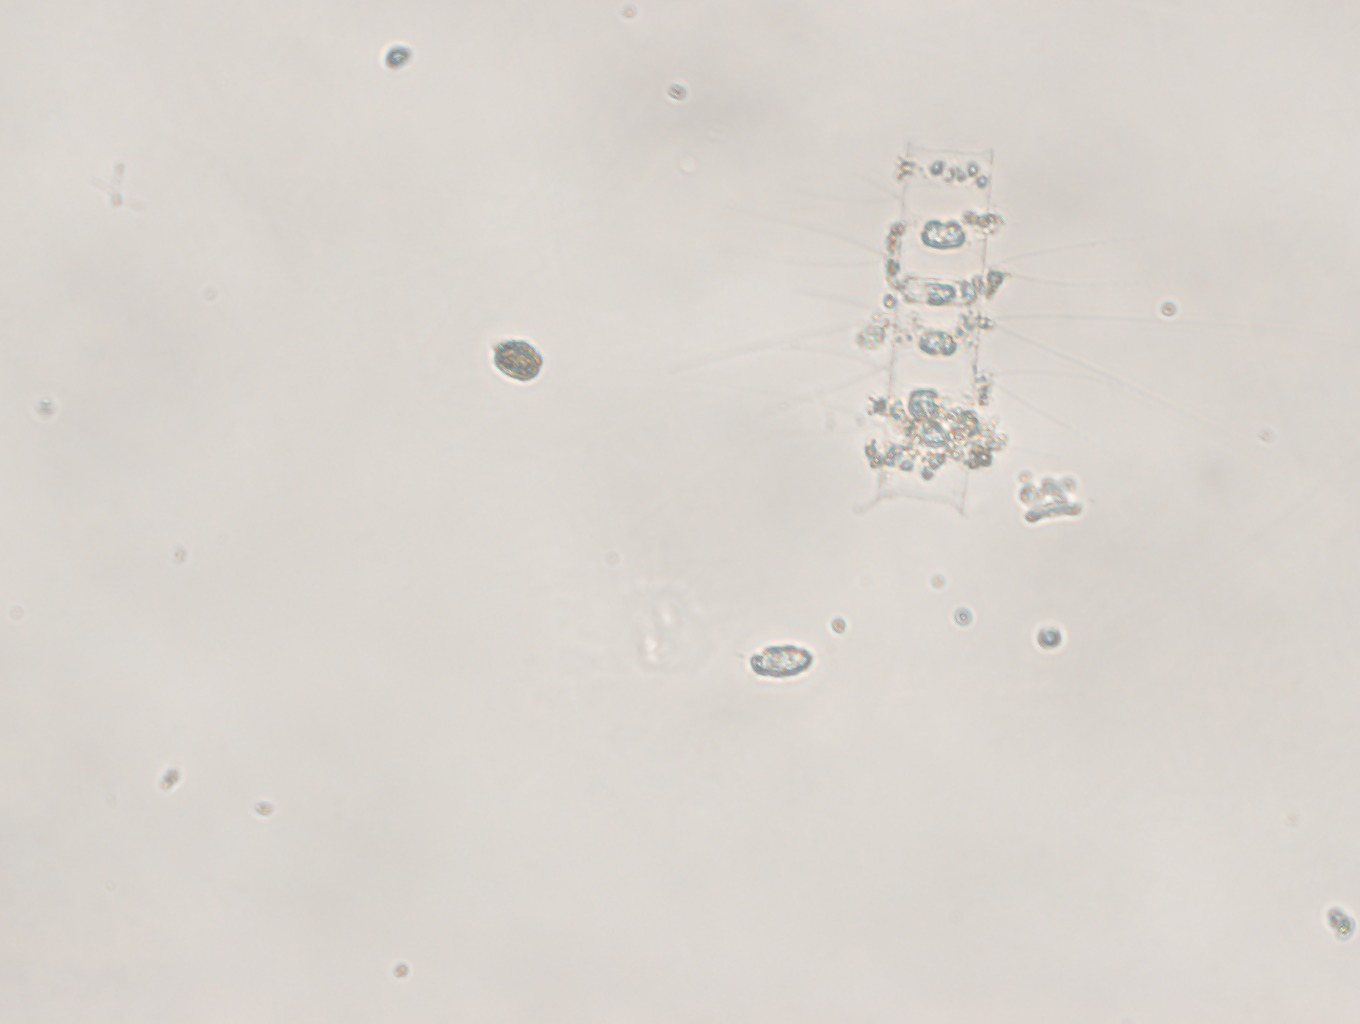chaetoceros: (741, 113, 1114, 540)
